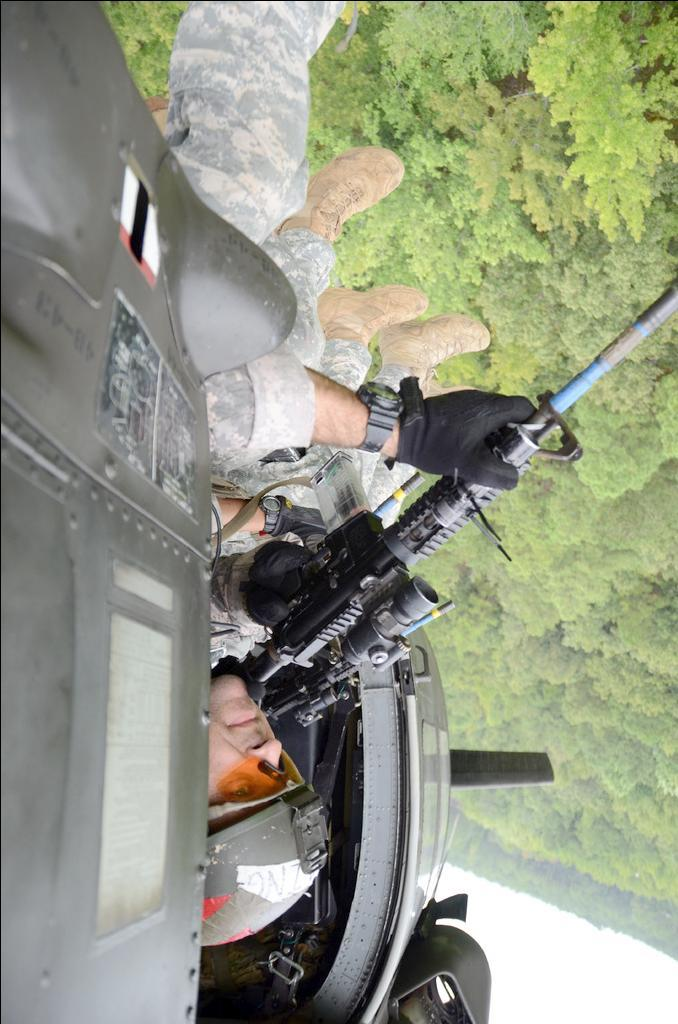gun: (205, 194, 678, 720)
